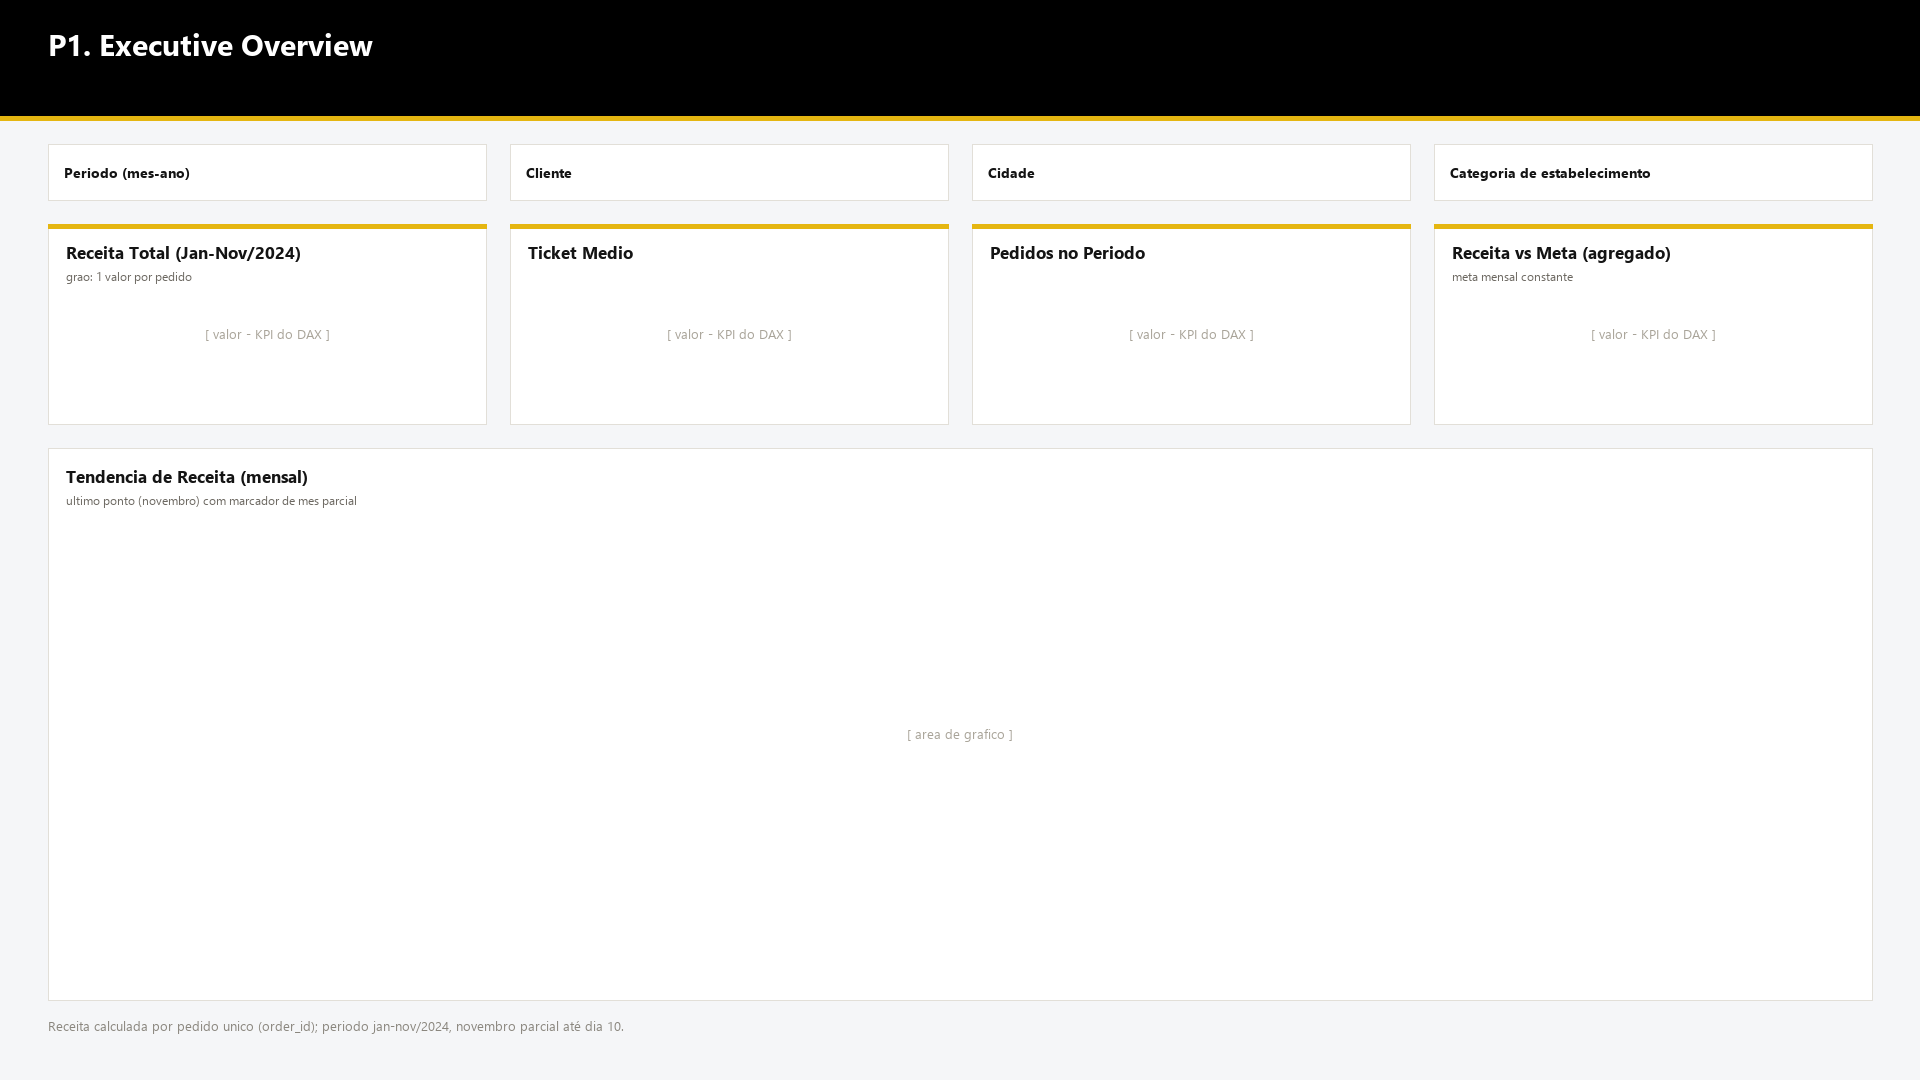

What the dashboard file says about the page in this screenshot:
{"tool":"powerbi","page":{"name":"Executive Overview","canvas":[1920,1080],"ordinal":0},"visuals":[{"type":"cardVisual","fields":{"Data":["Metricas.Total Revenue"]},"box":[62.9,301.4,408.6,114.3],"z":0},{"type":"cardVisual","fields":{"Data":["Metricas.Average Ticket"]},"box":[525.7,301.4,411.4,114.3],"z":1000},{"type":"cardVisual","fields":{"Data":["Metricas.Distinct Order Count"]},"box":[984.3,301.4,412.9,114.3],"z":2000},{"type":"cardVisual","fields":{"Data":["Metricas.Revenue vs Target"]},"box":[1448.6,301.4,407.1,114.3],"z":3000},{"type":"lineChart","fields":{"Category":["dim_date.MonthName"],"Y":["Metricas.Total Revenue"]},"box":[62.9,530,1792.9,452.9],"z":4000},{"type":"slicer","fields":{"Values":["dim_date.MonthName"]},"box":[47.1,127.1,440,72.9],"z":4001},{"type":"slicer","fields":{"Values":["dim_customer.user_id"]},"box":[511.4,127.1,440,72.9],"z":4002},{"type":"slicer","fields":{"Values":["targets.city"]},"box":[971.4,127.1,440,72.9],"z":4003},{"type":"slicer","fields":{"Values":["dim_customer.category"]},"box":[1432.9,127.1,440,72.9],"z":4004}]}

Visuals, with their boxes in screenshot pixels (x1, y1, x2, y2), scaled from the page's 1920x1080 canvas onto the 1920x1080 screenshot:
cardVisual - Metricas.Total Revenue: (63,301,472,416)
cardVisual - Metricas.Average Ticket: (526,301,937,416)
cardVisual - Metricas.Distinct Order Count: (984,301,1397,416)
cardVisual - Metricas.Revenue vs Target: (1449,301,1856,416)
lineChart - dim_date.MonthName x Metricas.Total Revenue: (63,530,1856,983)
slicer - dim_date.MonthName: (47,127,487,200)
slicer - dim_customer.user_id: (511,127,951,200)
slicer - targets.city: (971,127,1411,200)
slicer - dim_customer.category: (1433,127,1873,200)
